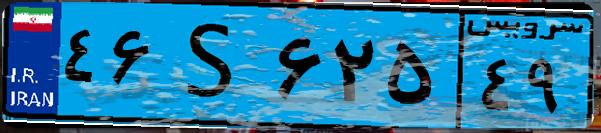2: (330, 28, 385, 110)
4: (57, 26, 110, 100), (475, 38, 525, 113)
5: (385, 28, 445, 110)
6: (270, 28, 330, 110), (110, 28, 158, 98)
9: (525, 38, 570, 115)
S: (158, 12, 270, 120)
